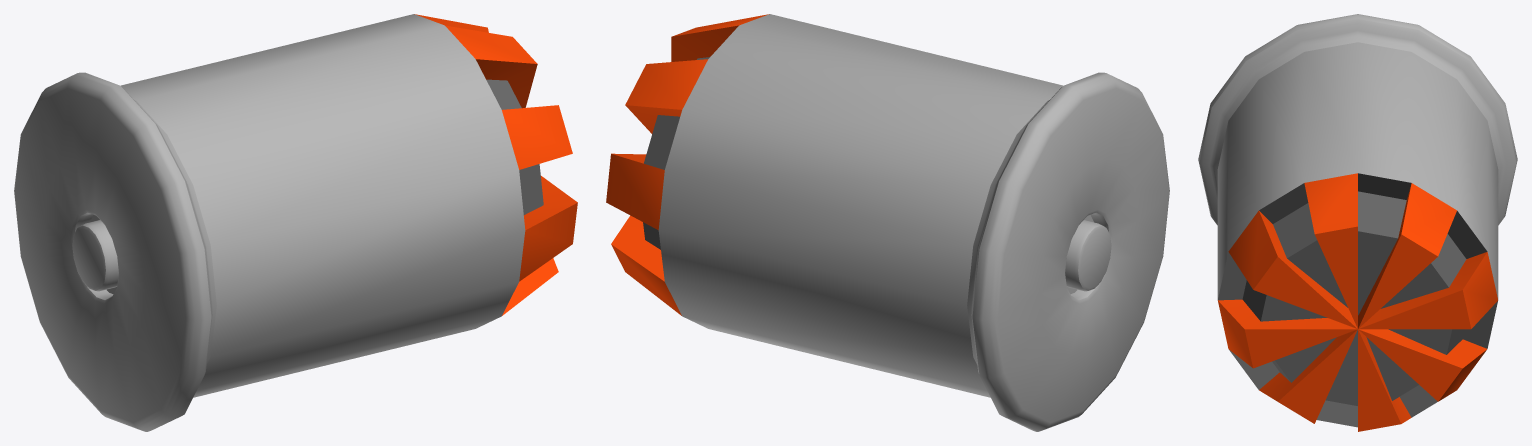
The model's file is Bullet.fbx.
3 views of the same model, side by side, from view 1: azimuth 30°, elevation 25°; view 2: azimuth 150°, elevation 25°; view 3: azimuth 270°, elevation 25° (orthographic). The views are drawn at different scales.
Parts seen in each view (by area): view 1: Cylinder; view 2: Cylinder; view 3: Cylinder.
Boxes of the visible parts, left/top/right/bottom form: Cylinder: left=14, top=14, right=577, bottom=431; Cylinder: left=606, top=14, right=1169, bottom=431; Cylinder: left=1198, top=14, right=1517, bottom=431.
Size of the model in its own units: 69.76 by 52.2 by 52.2.
